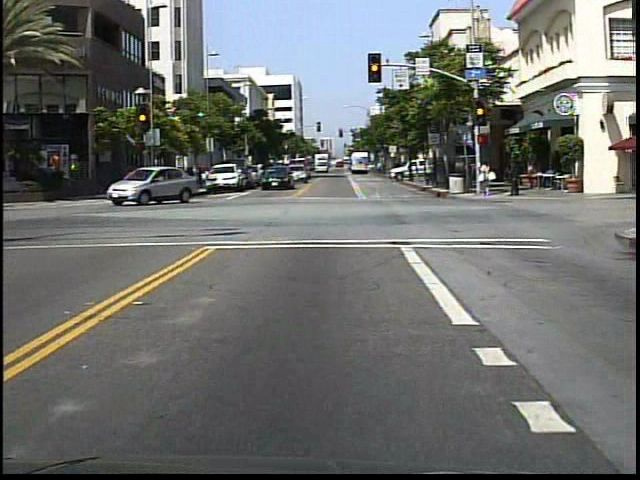person: (476, 157, 496, 199), (506, 155, 523, 197), (128, 165, 146, 198)
